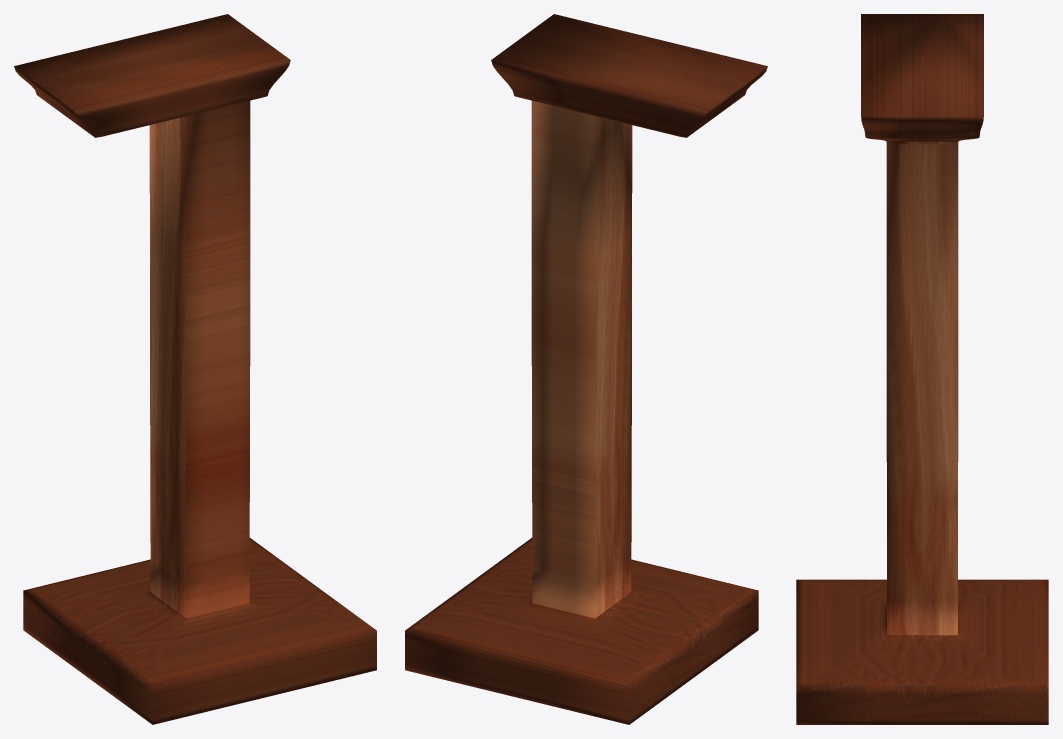
Rendered from Alarmabase.obj.
The picture shows the model from 3 angles, left to right: view 1: azimuth 30°, elevation 25°; view 2: azimuth 150°, elevation 25°; view 3: azimuth 270°, elevation 25°; orthographic projection. The views are drawn at different scales.
Parts seen in each view (by area): view 1: Loft036; view 2: Loft036; view 3: Loft036.
Boxes of the visible parts, x1,y1,x2,y2 form: Loft036: (14, 14, 376, 724); Loft036: (405, 14, 767, 724); Loft036: (796, 14, 1048, 724).
Bounding box in the file's own units: 26.24 × 56.29 × 22.06.
